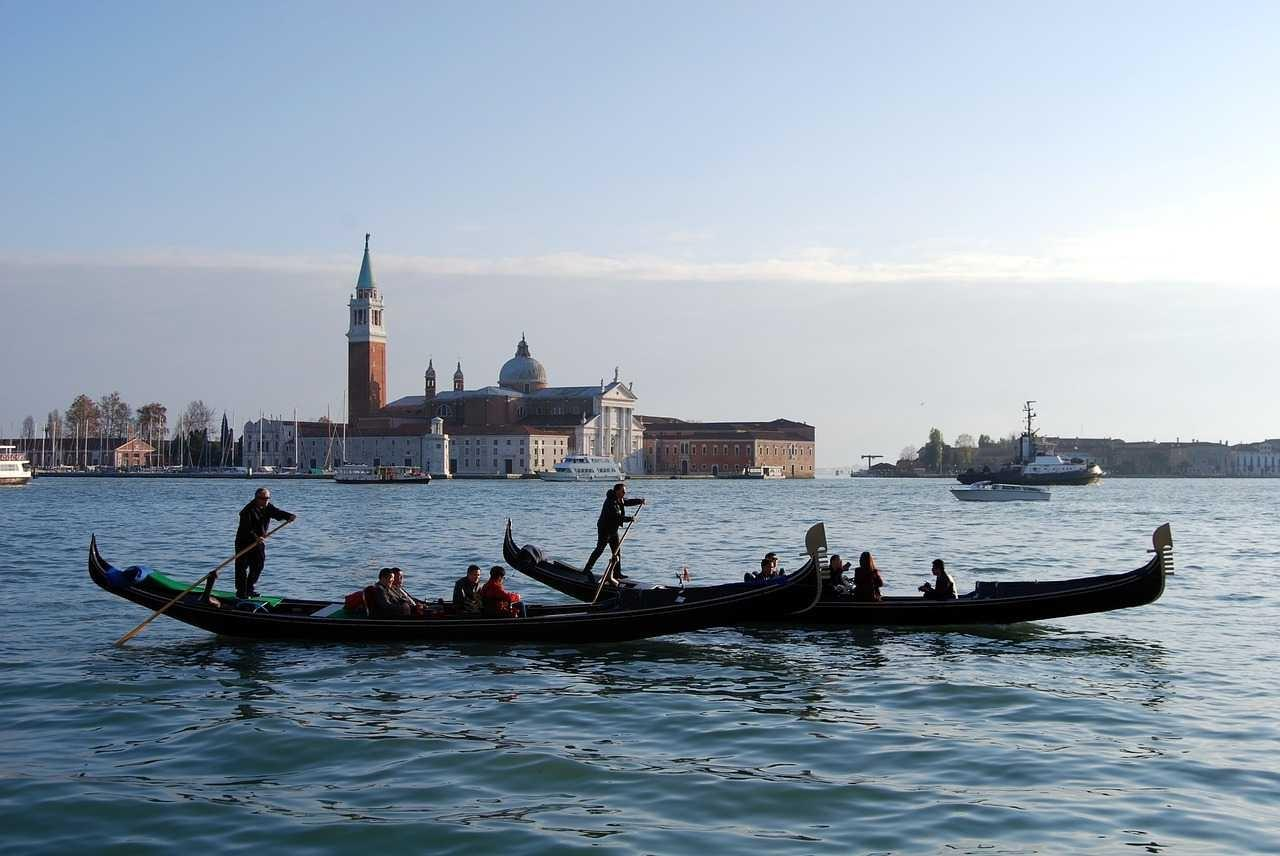kayak: (86, 525, 834, 655), (951, 400, 1106, 489), (502, 517, 643, 603), (333, 460, 432, 485), (540, 455, 626, 482), (948, 484, 1050, 503), (0, 443, 34, 486)
